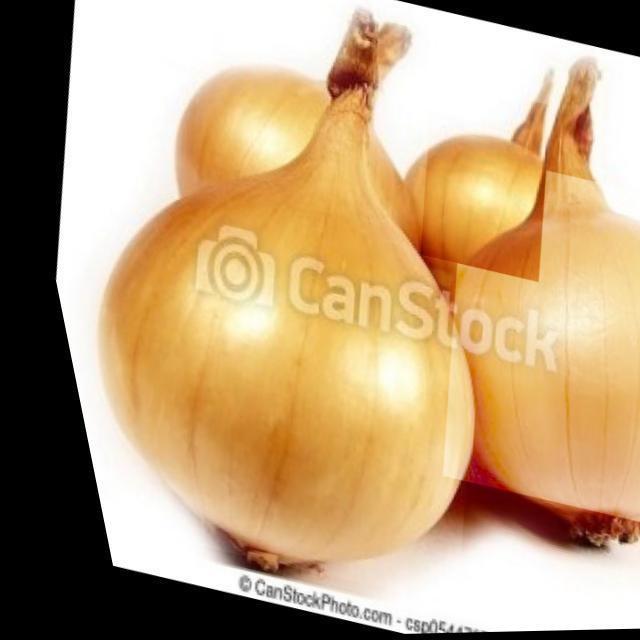Onion: (15, 89, 544, 613), (370, 149, 640, 542), (158, 19, 430, 234), (381, 77, 573, 286)
